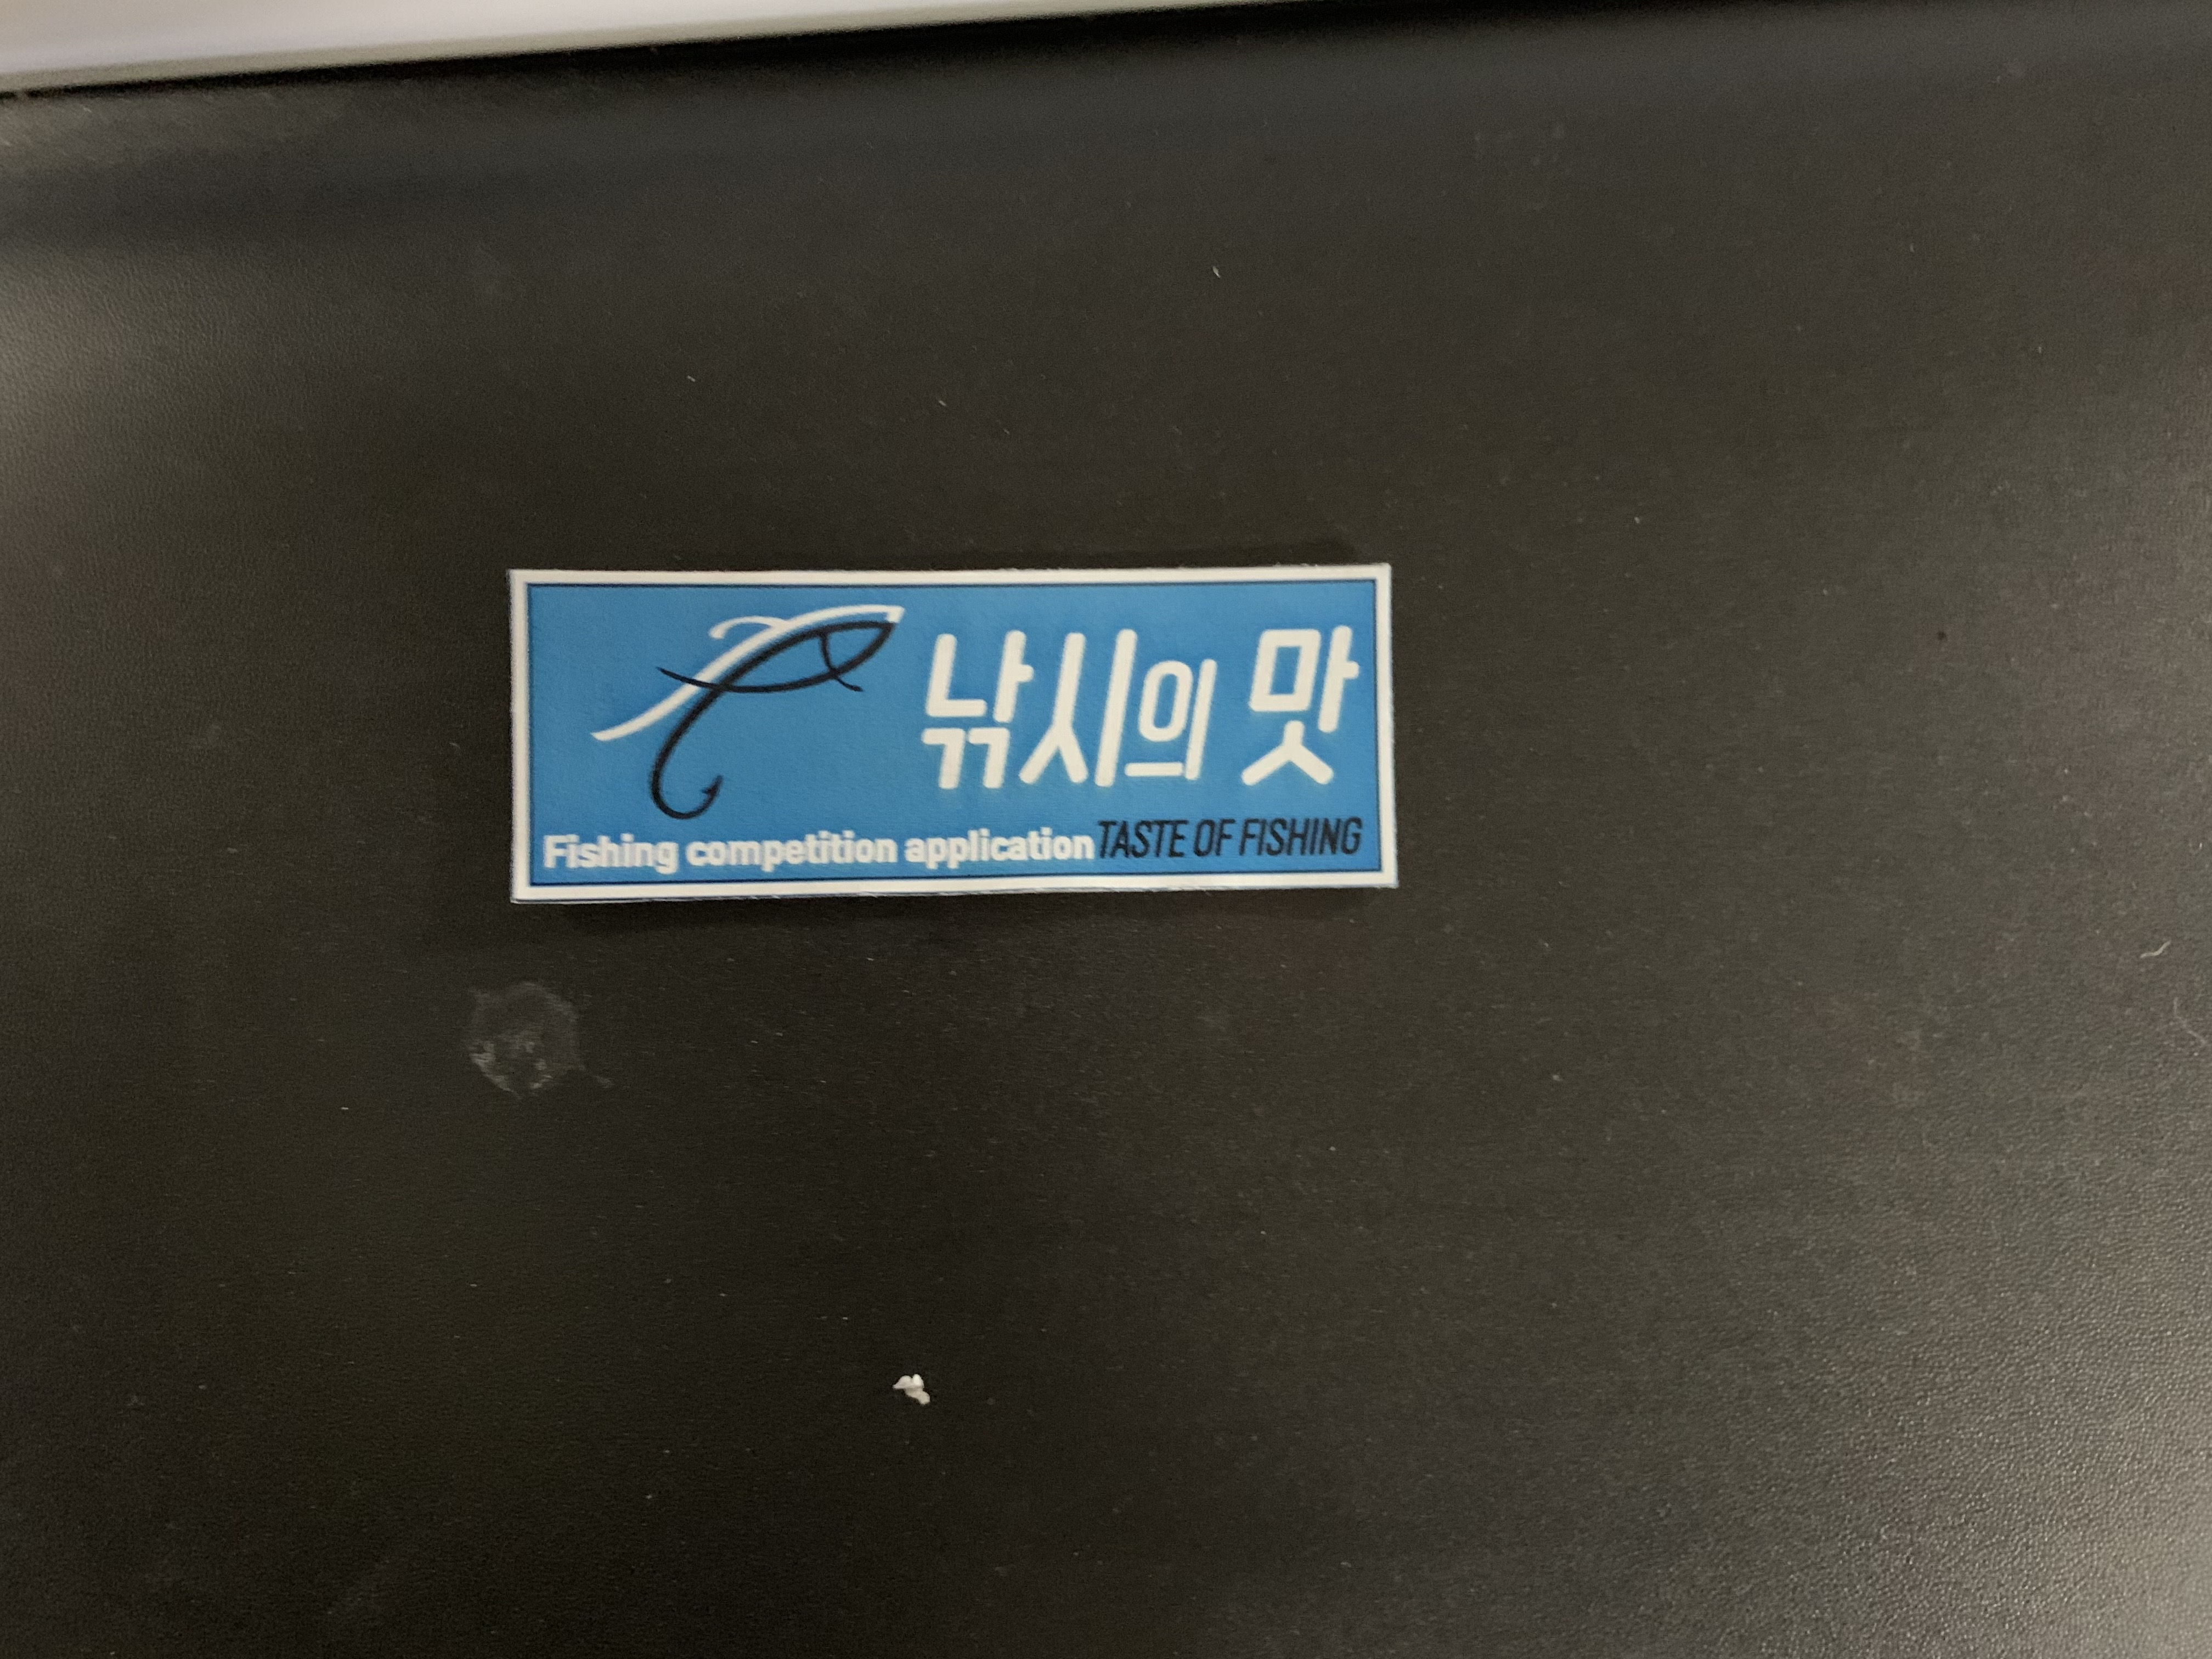tag: (509, 563, 1402, 896)
